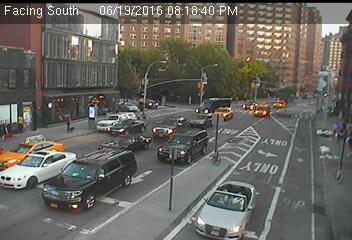neg: (88, 156, 122, 201), (153, 176, 179, 210), (178, 127, 200, 156), (283, 78, 305, 106), (20, 29, 40, 56), (205, 171, 224, 197), (113, 120, 132, 146), (81, 29, 98, 52), (50, 34, 66, 55), (228, 153, 243, 173), (156, 52, 171, 71), (108, 142, 121, 159), (282, 39, 295, 56), (120, 66, 133, 82), (138, 56, 148, 69), (255, 45, 263, 56), (209, 40, 213, 45)
pos: (57, 109, 77, 134), (335, 120, 351, 142), (339, 127, 351, 154), (328, 120, 342, 138), (240, 93, 249, 105), (232, 95, 240, 105)
